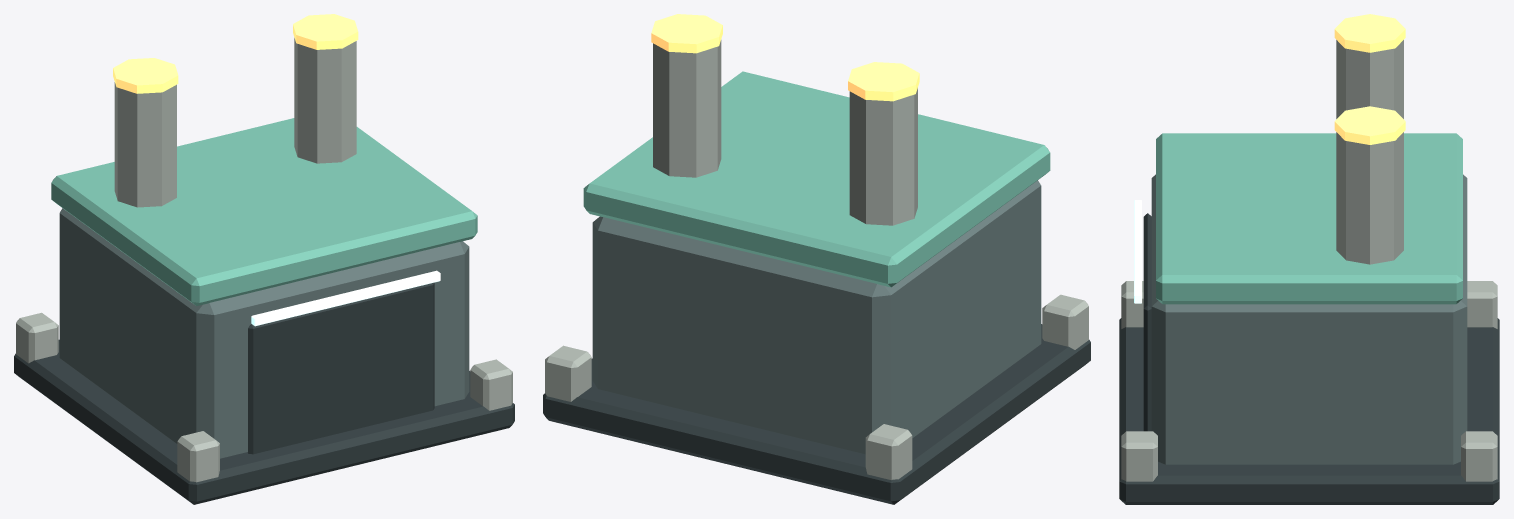
Rendered from foundry.glb.
3 views of the same model, side by side, from view 1: azimuth 30°, elevation 25°; view 2: azimuth 150°, elevation 25°; view 3: azimuth 270°, elevation 25° (orthographic). The views are drawn at different scales.
Visible parts, largest first — view 1: Factory_roof, Factory, Bay.001, Foundation.002, Chimney, Chimney.001, Bay_light.002, Chimney_light.001, Chimney_light, Corner_armor.008, Corner_armor.010, Corner_armor.009; view 2: Factory, Factory_roof, Foundation.002, Chimney, Chimney.001, Chimney_light, Chimney_light.001, Corner_armor.009, Corner_armor.011, Corner_armor.008; view 3: Factory, Factory_roof, Foundation.002, Chimney.001, Chimney, Chimney_light, Chimney_light.001, Bay.001, Corner_armor.010, Corner_armor.011, Corner_armor.009, Corner_armor.008 (+1 smaller).
Boxes of the visible parts, x1,y1,x2,y2 form: Factory_roof: (51, 118, 477, 305); Factory: (59, 208, 469, 458); Bay.001: (248, 282, 434, 454); Foundation.002: (14, 339, 514, 504); Chimney: (114, 82, 176, 207); Chimney.001: (294, 38, 356, 163); Bay_light.002: (251, 270, 440, 326); Chimney_light.001: (293, 14, 358, 49); Chimney_light: (113, 58, 178, 93); Corner_armor.008: (177, 431, 219, 482); Corner_armor.010: (470, 359, 512, 410); Corner_armor.009: (16, 312, 58, 363); Factory: (592, 180, 1041, 454); Factory_roof: (583, 71, 1050, 287); Foundation.002: (543, 324, 1090, 504); Chimney: (849, 88, 917, 225); Chimney.001: (653, 40, 721, 177); Chimney_light: (848, 62, 919, 101); Chimney_light.001: (651, 14, 722, 53); Corner_armor.009: (865, 424, 912, 480); Corner_armor.011: (545, 345, 591, 401); Corner_armor.008: (1042, 294, 1088, 349); Factory: (1151, 174, 1467, 464); Factory_roof: (1156, 133, 1462, 304); Foundation.002: (1119, 318, 1499, 504); Chimney.001: (1336, 132, 1403, 264); Chimney: (1336, 40, 1403, 118); Chimney_light: (1334, 14, 1405, 52); Chimney_light.001: (1334, 106, 1405, 144); Bay.001: (1143, 213, 1151, 431); Corner_armor.010: (1121, 431, 1157, 481); Corner_armor.011: (1461, 431, 1497, 481); Corner_armor.009: (1467, 281, 1497, 328); Corner_armor.008: (1121, 281, 1143, 328).
Size of the model in its own units: 4.9 by 4.76 by 4.7.
